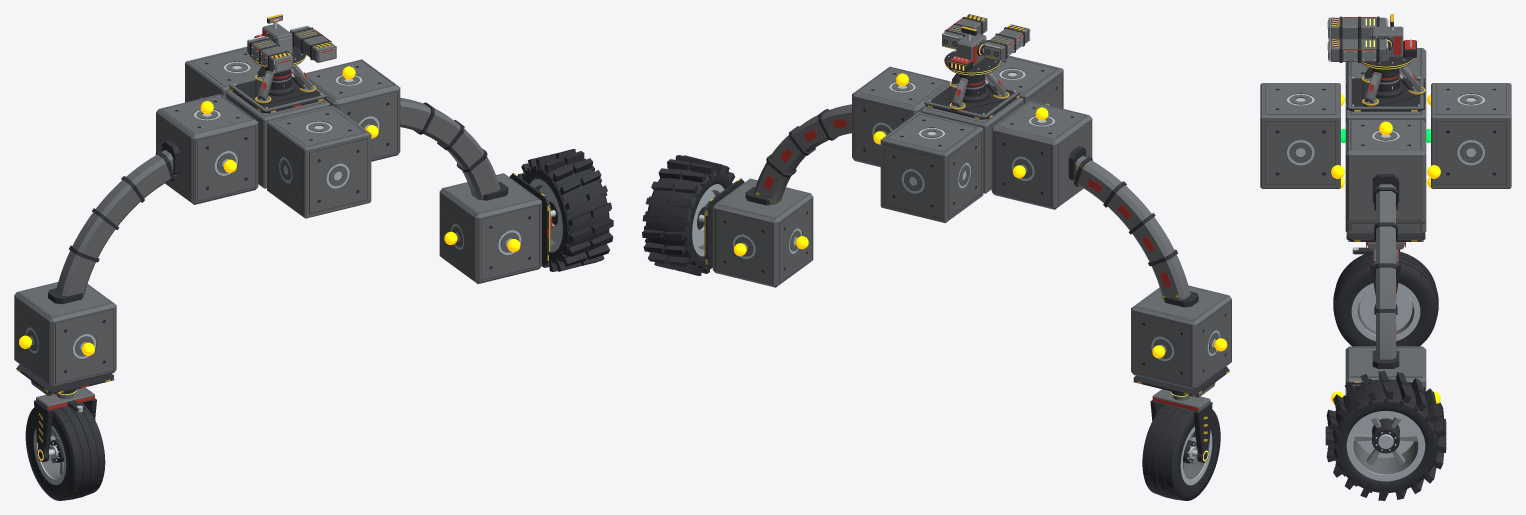
The model's file is ASM_arc_outrigger.glb.
The picture shows the model from 3 angles, left to right: view 1: azimuth 30°, elevation 25°; view 2: azimuth 150°, elevation 25°; view 3: azimuth 270°, elevation 25°; orthographic projection. The views are drawn at different scales.
Visible parts, largest first — view 1: R4C_STRUT_ARC.001, R4C_STRUT_ARC, R4B_Cube.002, R4M_WheelM_Side_Offroad_Rotor, R4M_WheelM_Steer_Road_Rotor, R4W_RocketLauncher_Base, R4B_Cube, R4M_WheelM_Steer_Road_Knuckle, R4W_RocketLauncher_Pitch, R4B_Cube.001, R4W_RocketLauncher_Yaw, R4M_WheelM_Steer_Road_Mount (+1 smaller); view 2: R4C_STRUT_ARC.001, R4C_STRUT_ARC, R4B_Cube, R4M_WheelM_Side_Offroad_Rotor, R4M_WheelM_Steer_Road_Rotor, R4W_RocketLauncher_Base, R4B_Cube.002, R4M_WheelM_Steer_Road_Knuckle, R4W_RocketLauncher_Yaw, R4B_Cube.001, R4W_RocketLauncher_Pitch, R4M_WheelM_Steer_Road_Mount (+1 smaller); view 3: R4C_STRUT_ARC, R4M_WheelM_Side_Offroad_Rotor, R4B_Cube.002, R4B_Cube, R4M_WheelM_Steer_Road_Rotor, R4W_RocketLauncher_Base, R4W_RocketLauncher_Pitch, R4C_STRUT_ARC.001, R4W_RocketLauncher_Yaw, R4B_Cube.001, R4M_WheelM_Steer_Road_Mount, R4M_WheelM_Steer_Road_Knuckle.
Boxes of the visible parts, bbox=[...] form: R4C_STRUT_ARC.001: bbox=[14, 94, 258, 387]; R4C_STRUT_ARC: bbox=[305, 59, 541, 283]; R4B_Cube.002: bbox=[267, 105, 371, 218]; R4M_WheelM_Side_Offroad_Rotor: bbox=[517, 149, 613, 271]; R4M_WheelM_Steer_Road_Rotor: bbox=[25, 402, 105, 500]; R4W_RocketLauncher_Base: bbox=[229, 62, 327, 113]; R4B_Cube: bbox=[185, 46, 261, 102]; R4M_WheelM_Steer_Road_Knuckle: bbox=[34, 387, 96, 462]; R4W_RocketLauncher_Pitch: bbox=[247, 26, 334, 71]; R4B_Cube.001: bbox=[226, 90, 330, 188]; R4W_RocketLauncher_Yaw: bbox=[250, 14, 306, 65]; R4M_WheelM_Steer_Road_Mount: bbox=[16, 364, 114, 395]; R4C_STRUT_ARC.001: bbox=[991, 100, 1231, 389]; R4C_STRUT_ARC: bbox=[712, 66, 950, 287]; R4B_Cube: bbox=[880, 112, 983, 223]; R4M_WheelM_Side_Offroad_Rotor: bbox=[642, 155, 734, 275]; R4M_WheelM_Steer_Road_Rotor: bbox=[1142, 404, 1220, 500]; R4W_RocketLauncher_Base: bbox=[924, 69, 1020, 119]; R4B_Cube.002: bbox=[985, 55, 1063, 108]; R4M_WheelM_Steer_Road_Knuckle: bbox=[1150, 389, 1212, 462]; R4W_RocketLauncher_Yaw: bbox=[944, 26, 1000, 74]; R4B_Cube.001: bbox=[921, 97, 1023, 193]; R4W_RocketLauncher_Pitch: bbox=[942, 14, 1028, 60]; R4M_WheelM_Steer_Road_Mount: bbox=[1133, 366, 1229, 397]; R4C_STRUT_ARC: bbox=[1345, 120, 1426, 395]; R4M_WheelM_Side_Offroad_Rotor: bbox=[1325, 371, 1446, 500]; R4B_Cube.002: bbox=[1260, 83, 1340, 188]; R4B_Cube: bbox=[1431, 83, 1511, 188]; R4M_WheelM_Steer_Road_Rotor: bbox=[1333, 251, 1438, 346]; R4W_RocketLauncher_Base: bbox=[1346, 63, 1425, 111]; R4W_RocketLauncher_Pitch: bbox=[1330, 16, 1391, 62]; R4C_STRUT_ARC.001: bbox=[1345, 48, 1426, 234]; R4W_RocketLauncher_Yaw: bbox=[1361, 14, 1416, 68]; R4B_Cube.001: bbox=[1345, 84, 1426, 122]; R4M_WheelM_Steer_Road_Mount: bbox=[1346, 232, 1425, 249]; R4M_WheelM_Steer_Road_Knuckle: bbox=[1352, 247, 1401, 295].
Size of the model in its own units: 4.4 by 3.15 by 1.62.
